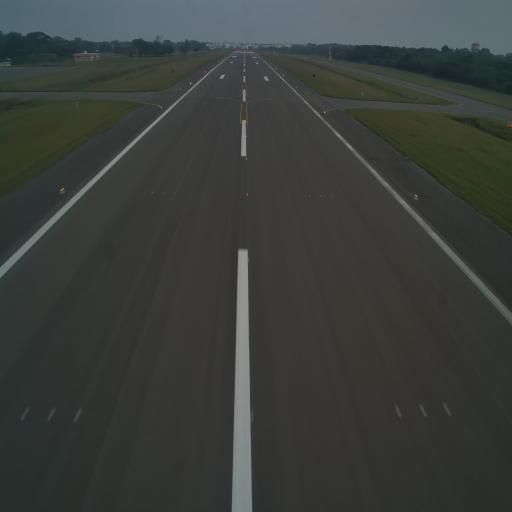off: (43, 398, 58, 425), (439, 394, 454, 421), (415, 398, 430, 422), (72, 404, 87, 426), (19, 398, 30, 426), (392, 401, 404, 425), (317, 191, 324, 203), (148, 188, 155, 198), (173, 188, 178, 201), (328, 192, 334, 202), (160, 190, 165, 200), (307, 191, 312, 200)
on: (411, 189, 419, 203), (59, 183, 66, 194), (244, 255, 251, 265), (244, 189, 250, 200), (244, 156, 249, 164), (244, 132, 248, 140)
